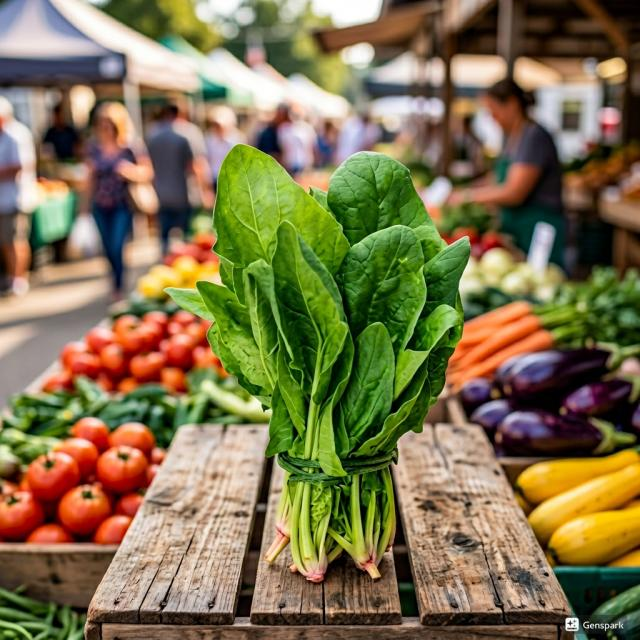spinach: (88, 97, 580, 612)
